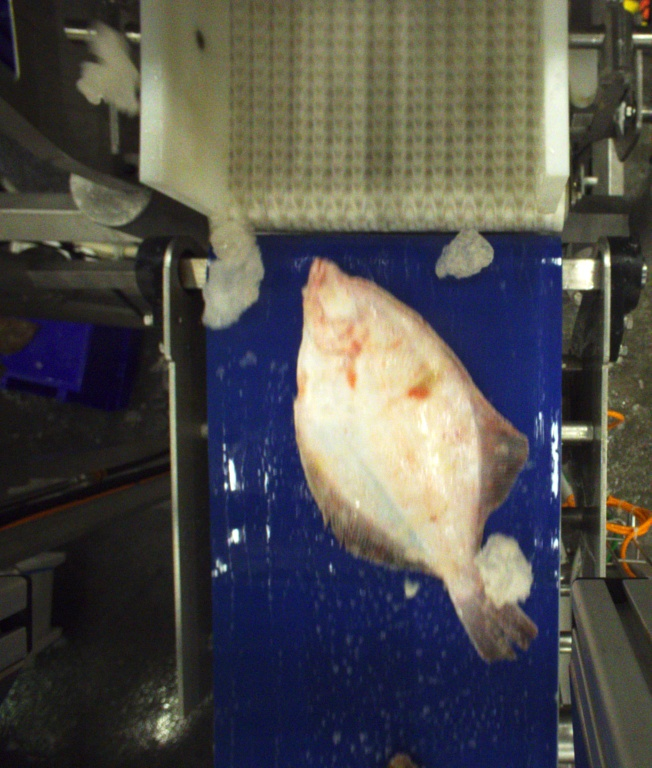PLE: (296, 257, 536, 660)
